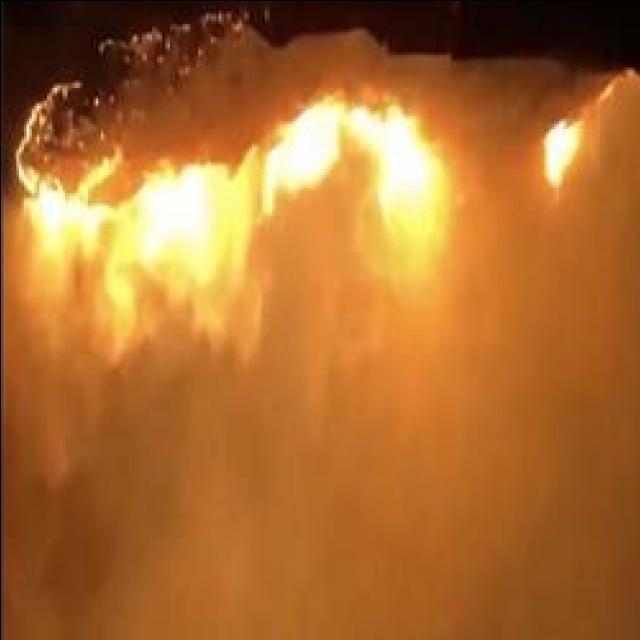fire: (138, 166, 224, 262), (268, 107, 346, 181), (372, 108, 428, 196), (22, 189, 98, 245), (12, 95, 52, 171)
smoke: (0, 370, 95, 630), (97, 260, 269, 350), (6, 245, 90, 387), (344, 195, 444, 280)
